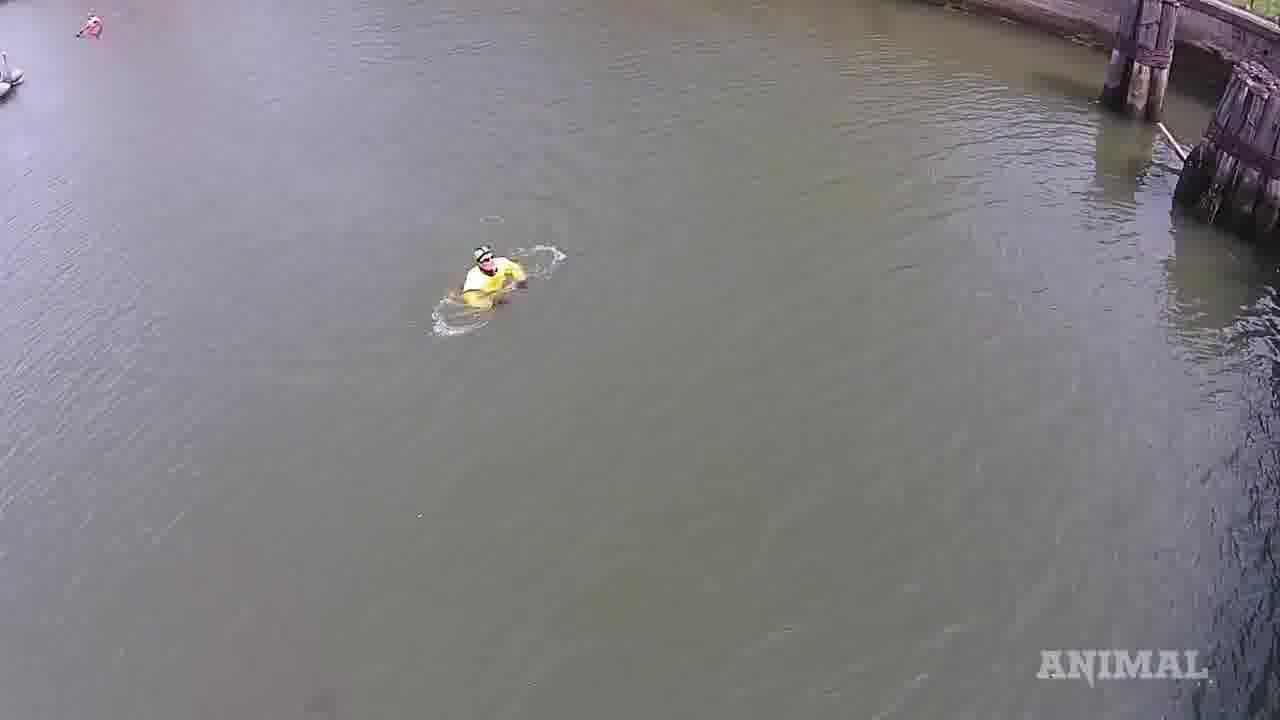human: (450, 225, 543, 327)
